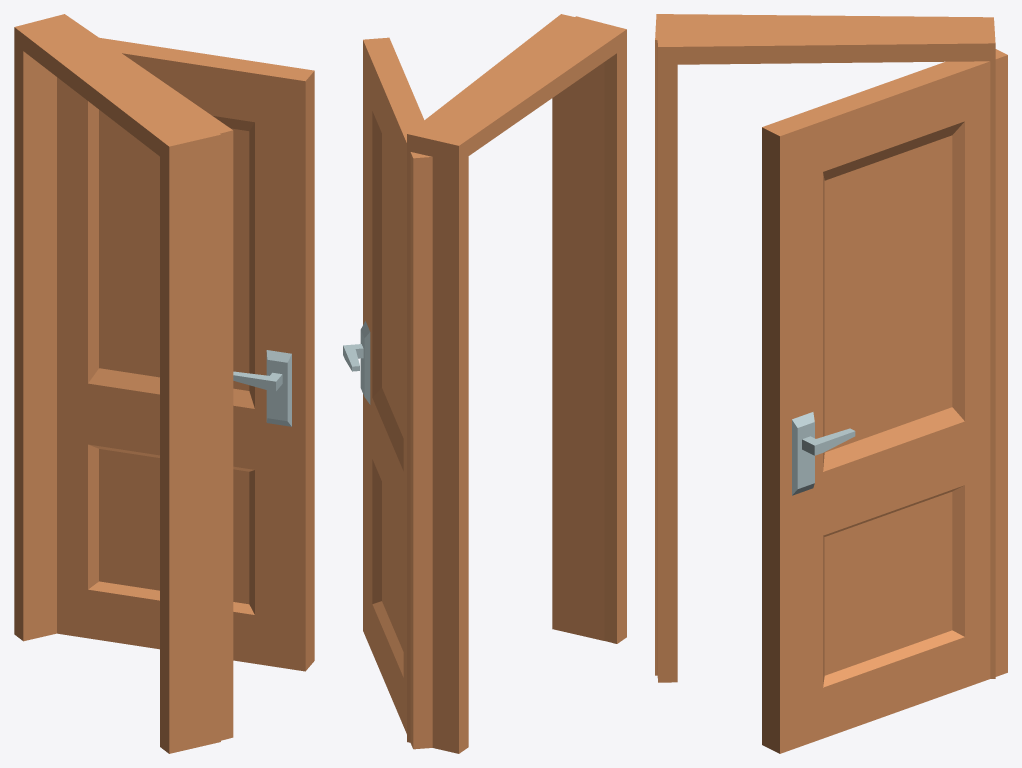
Rendered from puertaV.glb.
3 renders of one model, left to right at view 1: azimuth 30°, elevation 25°; view 2: azimuth 150°, elevation 25°; view 3: azimuth 270°, elevation 25°, orthographic. The views are drawn at different scales.
Visible parts, largest first — view 1: door, doorway_1, doorway; view 2: doorway, door, doorway_1; view 3: door, doorway, doorway_1.
Part boxes in pixels (box(x1,y1,x2,y2)): door: box(57, 37, 314, 671); doorway_1: box(14, 15, 220, 753); doorway: box(14, 14, 233, 740); doorway: box(407, 14, 612, 753); door: box(343, 37, 432, 749); doorway_1: box(409, 16, 626, 753); door: box(762, 49, 1007, 753); doorway: box(656, 17, 995, 682); doorway_1: box(655, 14, 993, 675).
Size of the model in its own units: 0.3615 by 1.01 by 0.508.
